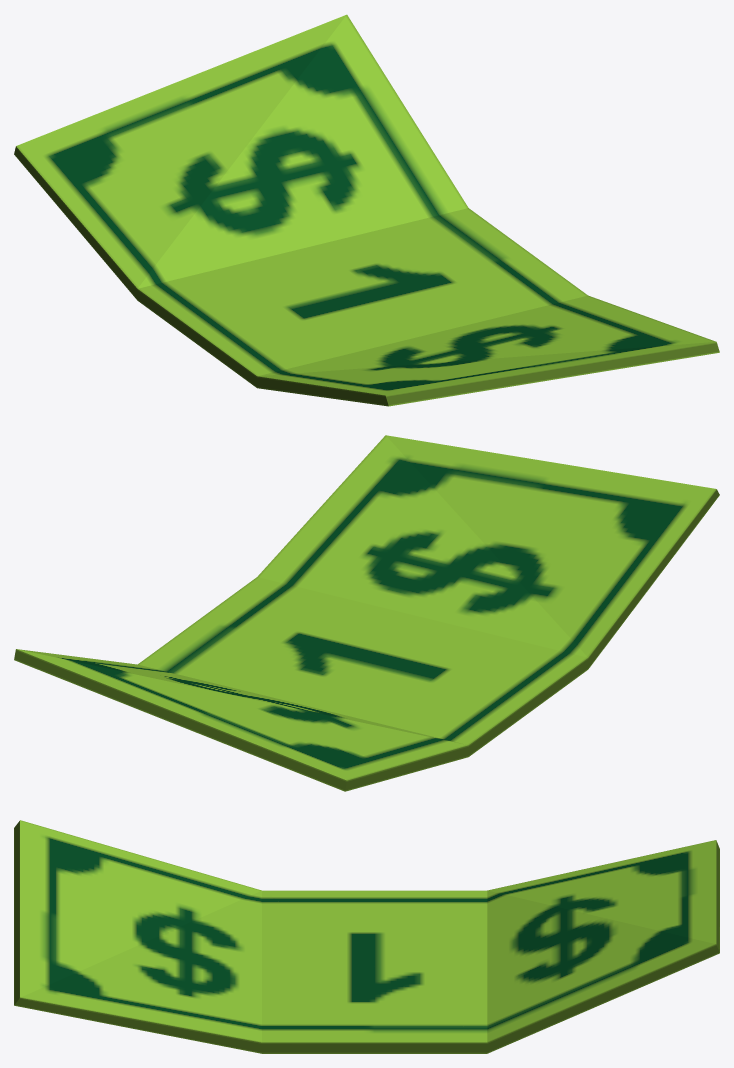
The model's file is Cash.FBX.
3 renders of one model, top to bottom at view 1: azimuth 30°, elevation 25°; view 2: azimuth 150°, elevation 25°; view 3: azimuth 270°, elevation 25°, orthographic. The views are drawn at different scales.
Visible parts, largest first — view 1: Cash; view 2: Cash; view 3: Cash.
Boxes of the visible parts, x1,y1,x2,y2 form: Cash: (14,14,719,406); Cash: (14,435,719,791); Cash: (14,820,719,1053).
Bounding box in the file's own units: 11.81 × 3.97 × 23.17.
Materials: 1 (1 with a texture image).
